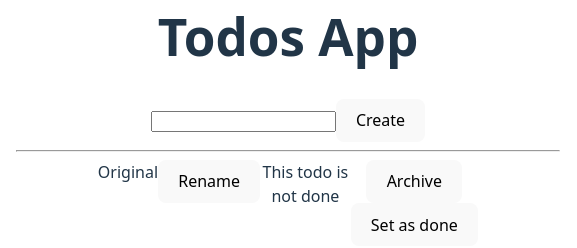
Test: TodoView component › can archive a Todo
Expected: the text "Original" is shown, [98,161,158,183]
Click the button "Archive" at (414, 182), box [366,160,462,203]
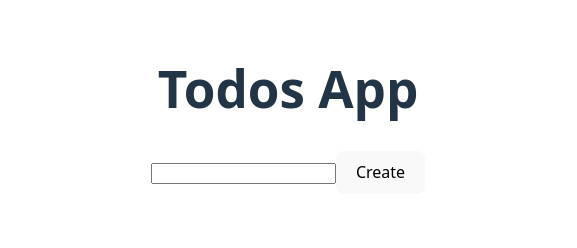
Expected: the button "Archive" is gone
